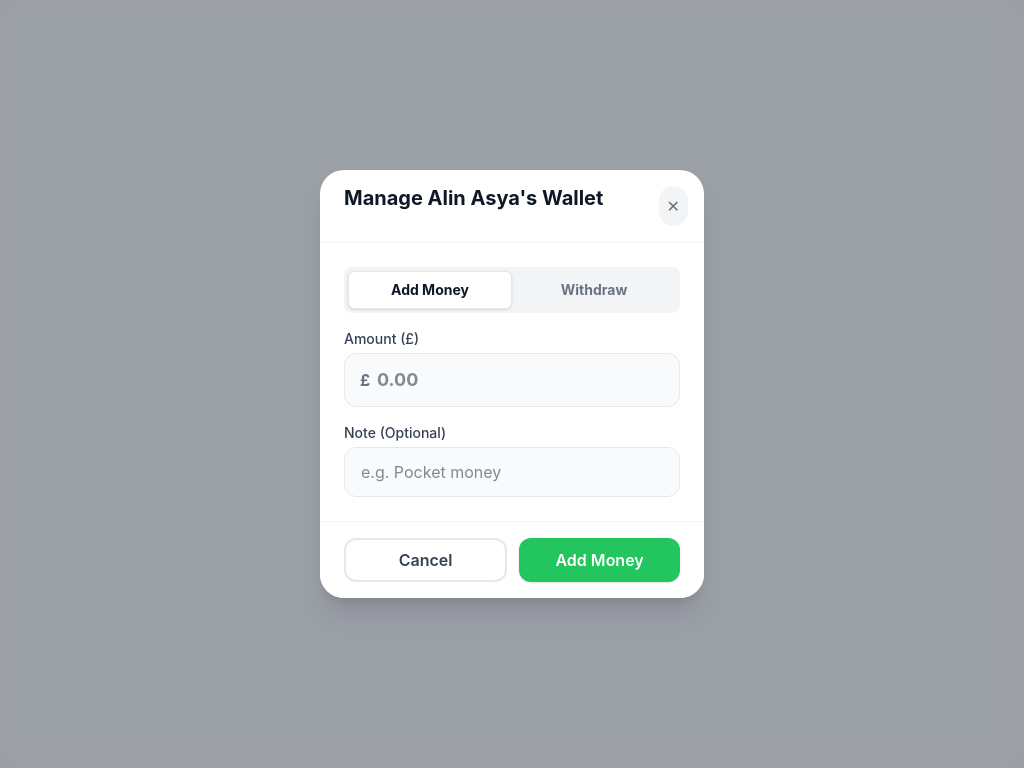
AddMoneyModal — Manage Wallet modal › 7. Add mode shows "Add Money" then "Add £<amount>"
Expected: the button with test id "manage-wallet-submit" reads "Add Money", top-left (519, 538), bottom-right (680, 582)
In the number field labelled "Amount (£)": (512, 380) top-left (344, 353), bottom-right (680, 407), type "10"
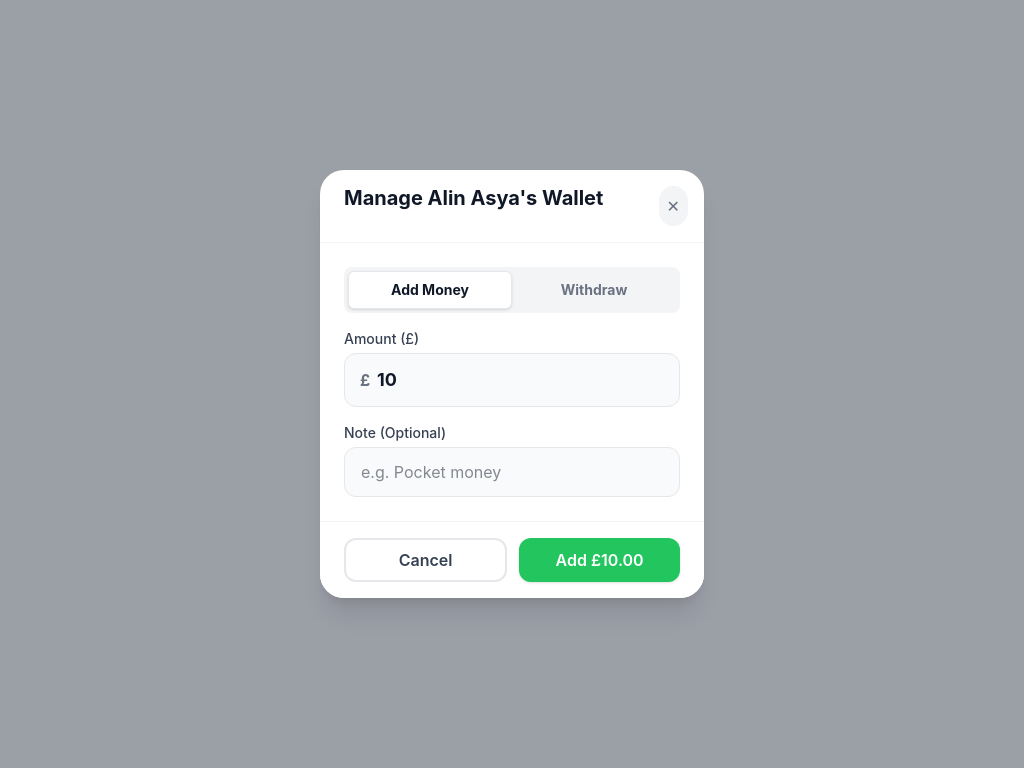
Now the button with test id "manage-wallet-submit" reads "Add £10.00", box top-left (519, 538), bottom-right (680, 582)
Replace the text in the number field labelled "Amount (£)" with "5.5": (512, 380) top-left (344, 353), bottom-right (680, 407)
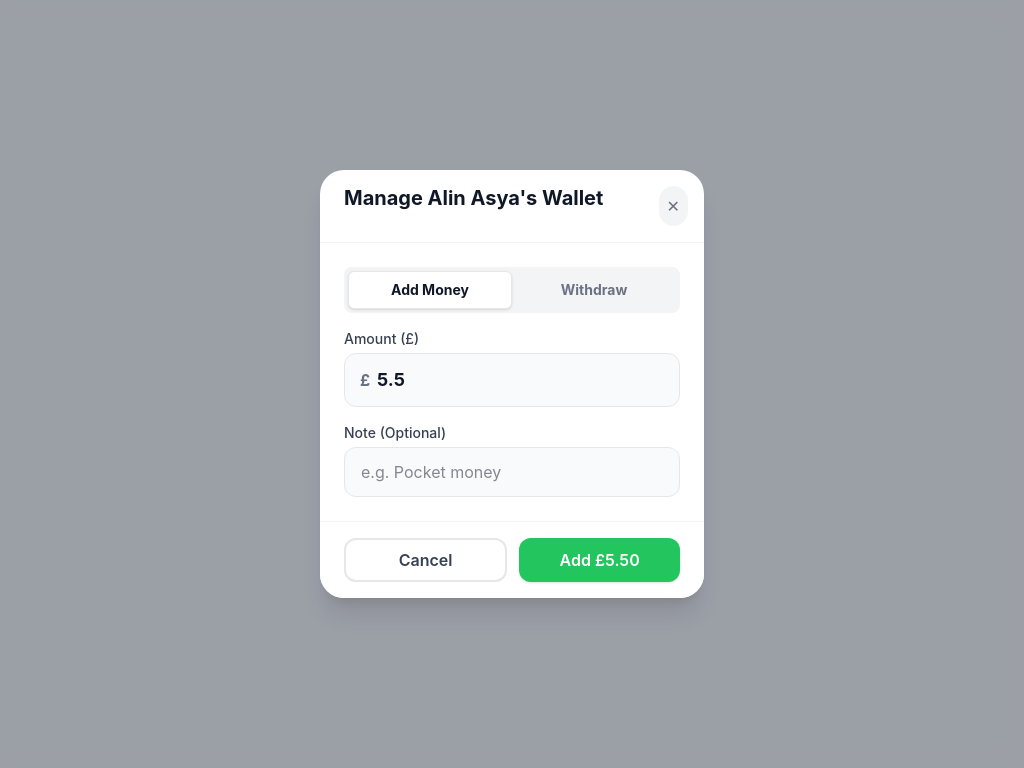
Now the button with test id "manage-wallet-submit" reads "Add £5.50", box top-left (519, 538), bottom-right (680, 582)
